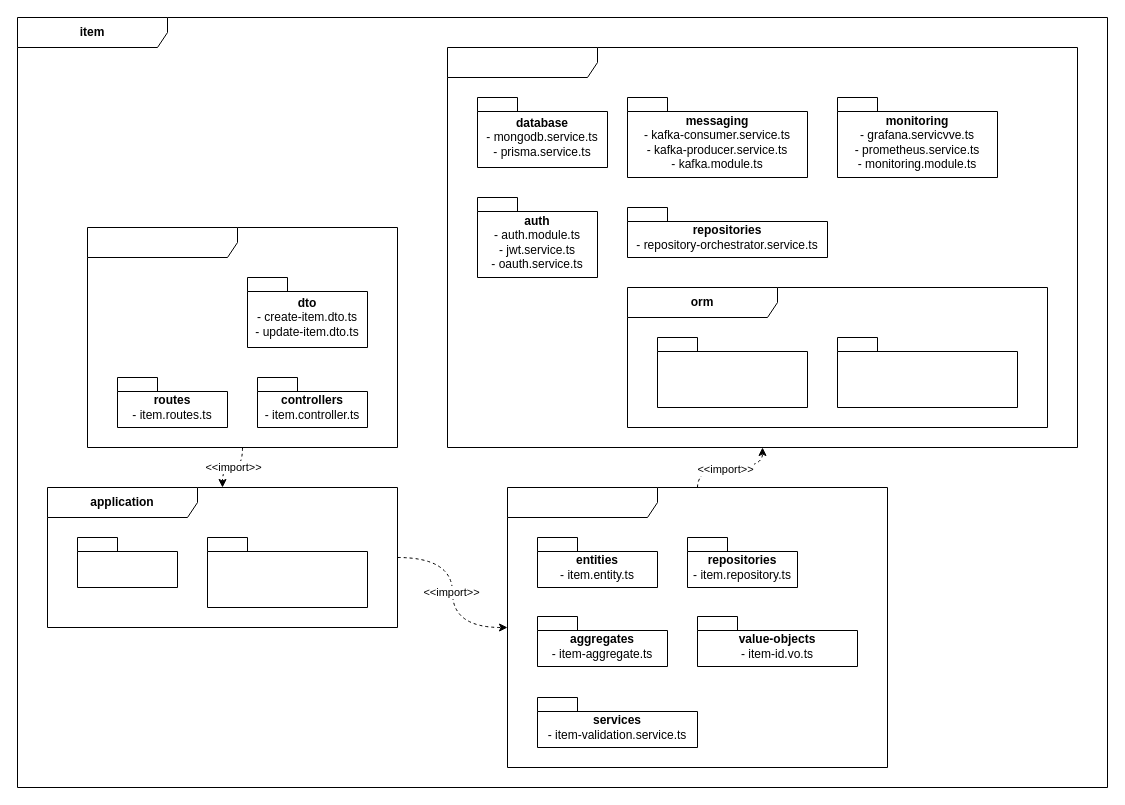
Some shapes in this 1125 by 805 pixel diagram are drawn without their labels. Here are the shapes that lost their labels. From the top down, the box of each, then its label:
(446, 46, 1078, 448): infraestructure
(86, 226, 398, 448): presentation
(656, 336, 808, 408): prisma - item.entity.prisma.ts - item.repository.prisma.ts
(836, 336, 1018, 408): mongoose - item.entity.mongoose.ts - item.repository.mongoose.ts
(76, 536, 178, 588): services - item.service.ts
(206, 536, 368, 608): use-cases - create-item.use-case.ts - get-item.use-case.ts
(506, 486, 888, 768): domain
